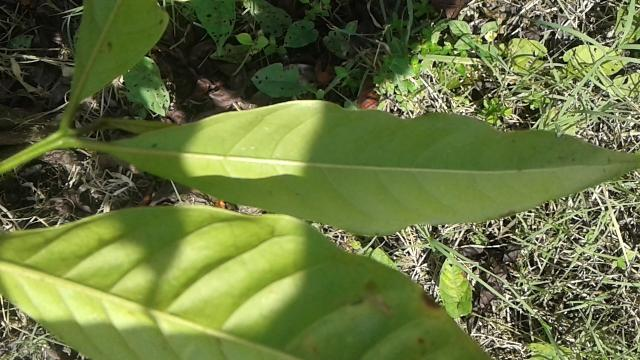healthy: (108, 96, 640, 240)
